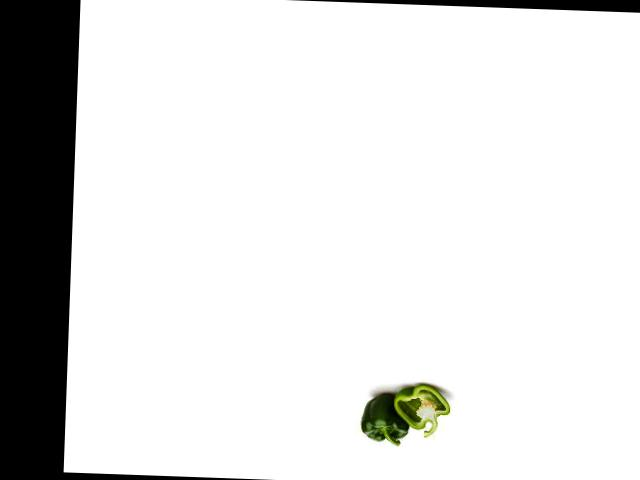bell_pepper: (390, 384, 453, 440)
